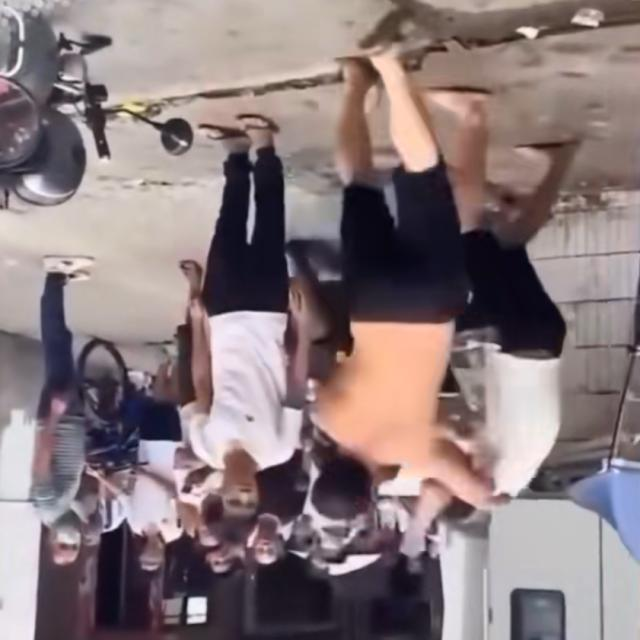fight: (310, 313, 556, 552)
nofight: (174, 129, 288, 524), (14, 248, 103, 581), (130, 375, 191, 581)
